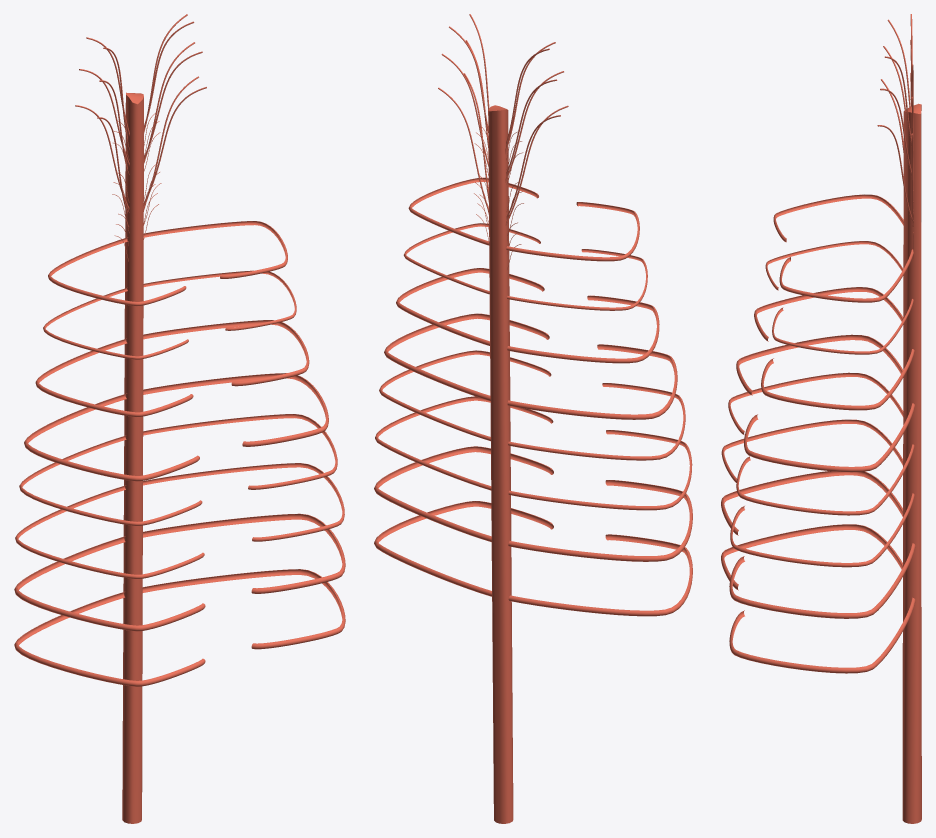
Rendered from Peripheral .fbx.
The picture shows the model from 3 angles, left to right: view 1: azimuth 30°, elevation 25°; view 2: azimuth 150°, elevation 25°; view 3: azimuth 270°, elevation 25°; orthographic projection.
Parts seen in each view (by area): view 1: CurlyCurve.008; view 2: CurlyCurve.008; view 3: CurlyCurve.008.
Part boxes in pixels (x1,y1,x2,y2): CurlyCurve.008: (14,14,345,823); CurlyCurve.008: (374,14,692,823); CurlyCurve.008: (721,14,921,823).
Bounding box in the file's own units: 247 × 620 × 144.
